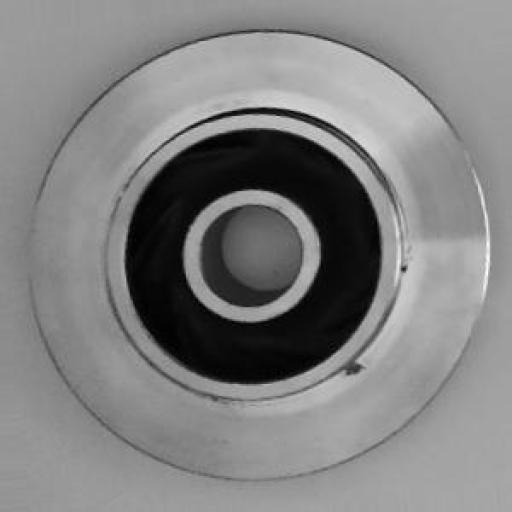defect: (338, 245, 438, 403)
